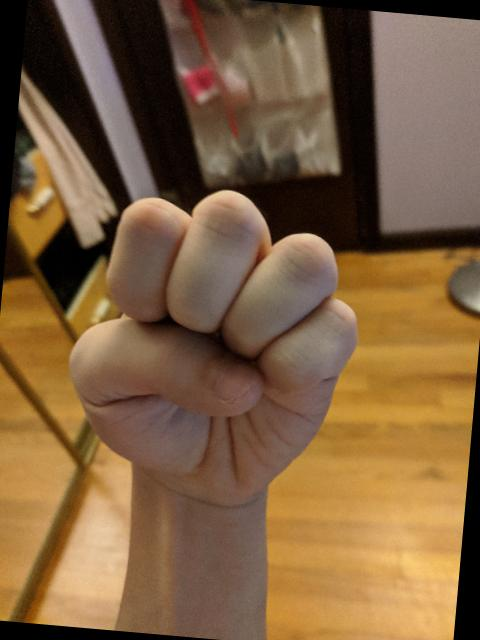E: (50, 172, 374, 515)
